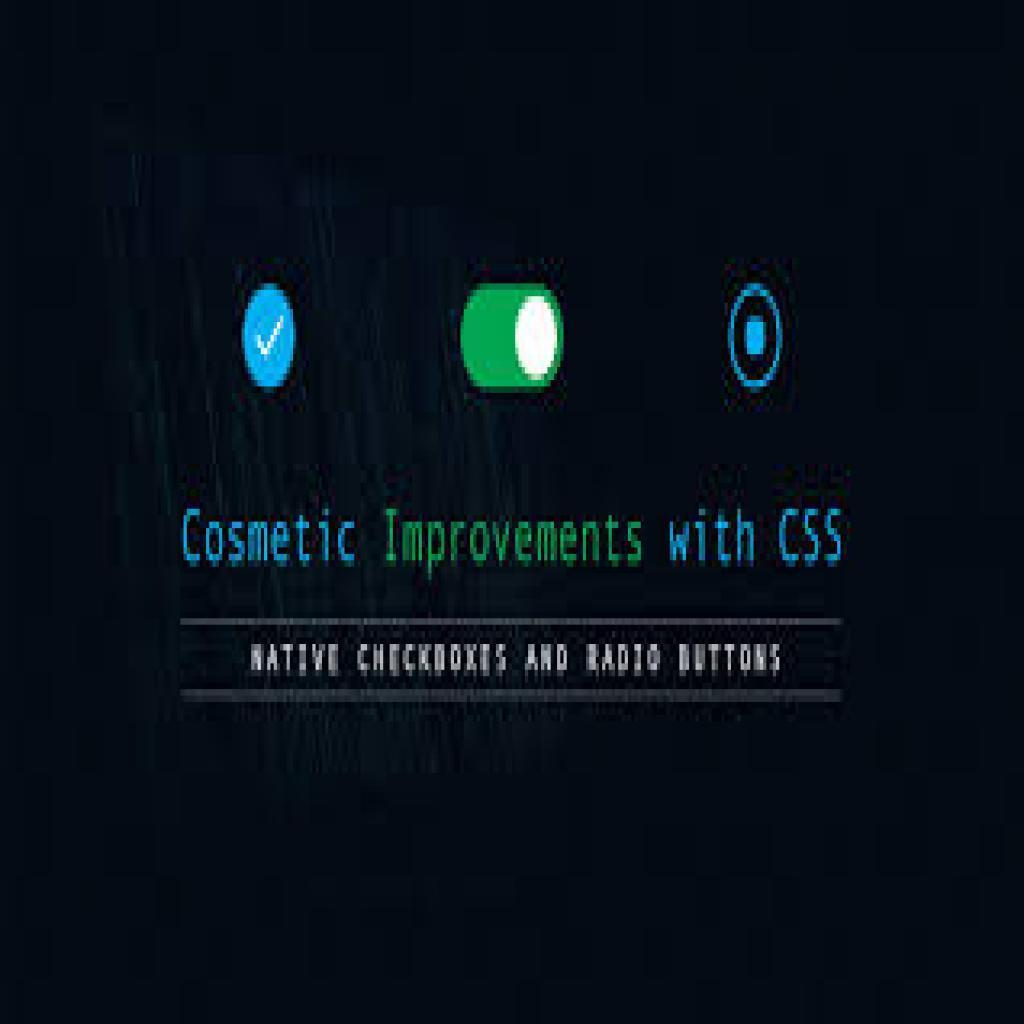checkbox: (244, 286, 294, 388)
radio: (727, 279, 786, 390)
switch: (460, 287, 569, 392)
